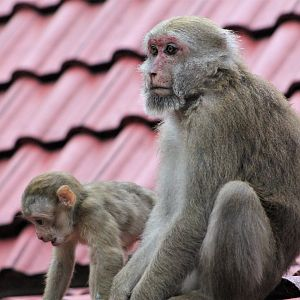monkey: (116, 15, 300, 300), (17, 159, 171, 300)
